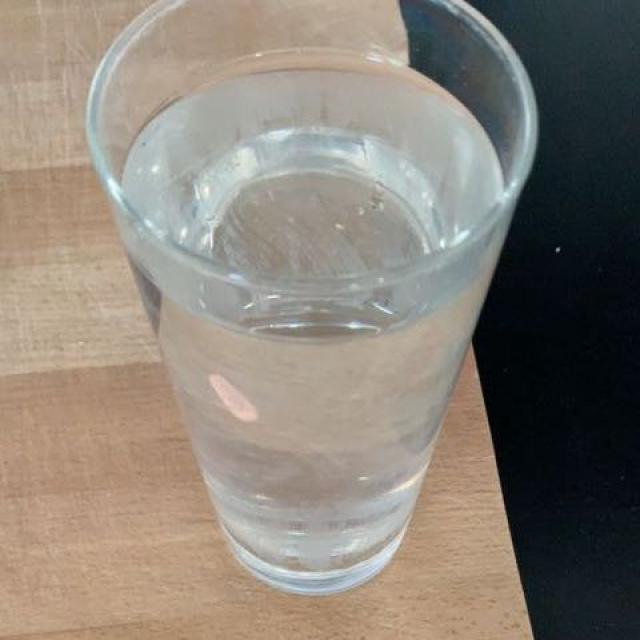water: (100, 38, 513, 585)
